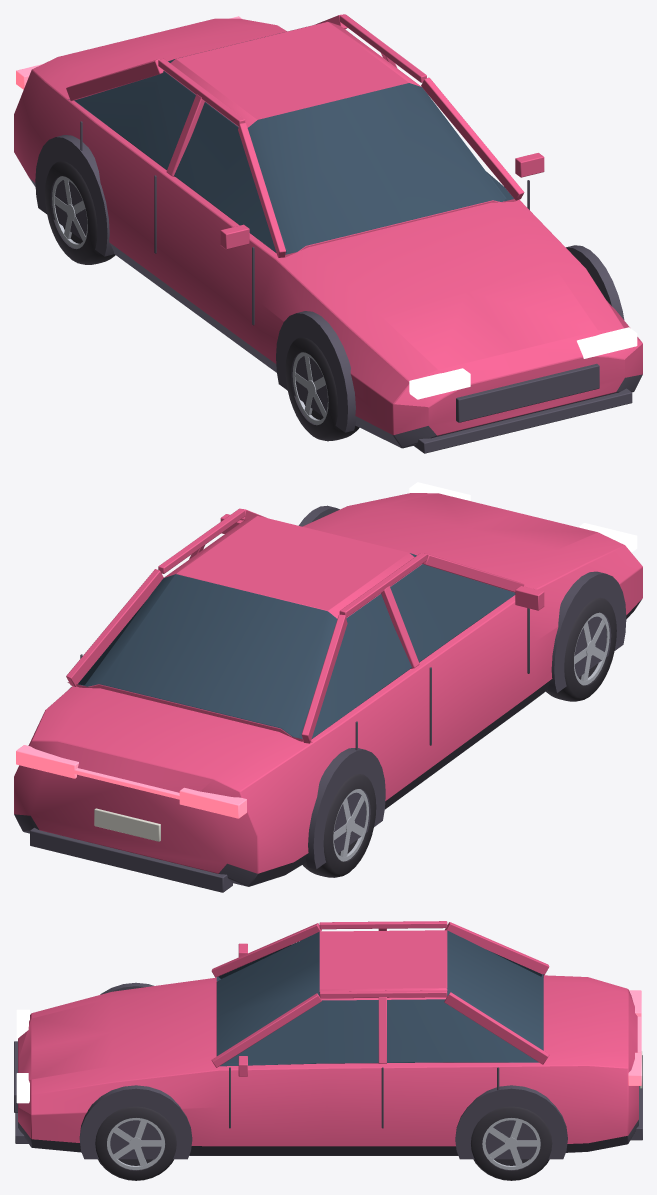
Rendered from car.glb.
3 renders of one model, top to bottom at view 1: azimuth 30°, elevation 25°; view 2: azimuth 150°, elevation 25°; view 3: azimuth 270°, elevation 25°, orthographic. The views are drawn at different scales.
Visible parts, largest first — view 1: car; view 2: car; view 3: car.
Boxes of the visible parts, left/top/right/bottom form: car: left=14, top=14, right=642, bottom=453; car: left=14, top=482, right=642, bottom=892; car: left=14, top=921, right=642, bottom=1180.
Size of the model in its own units: 2.14 by 1.43 by 4.69.
